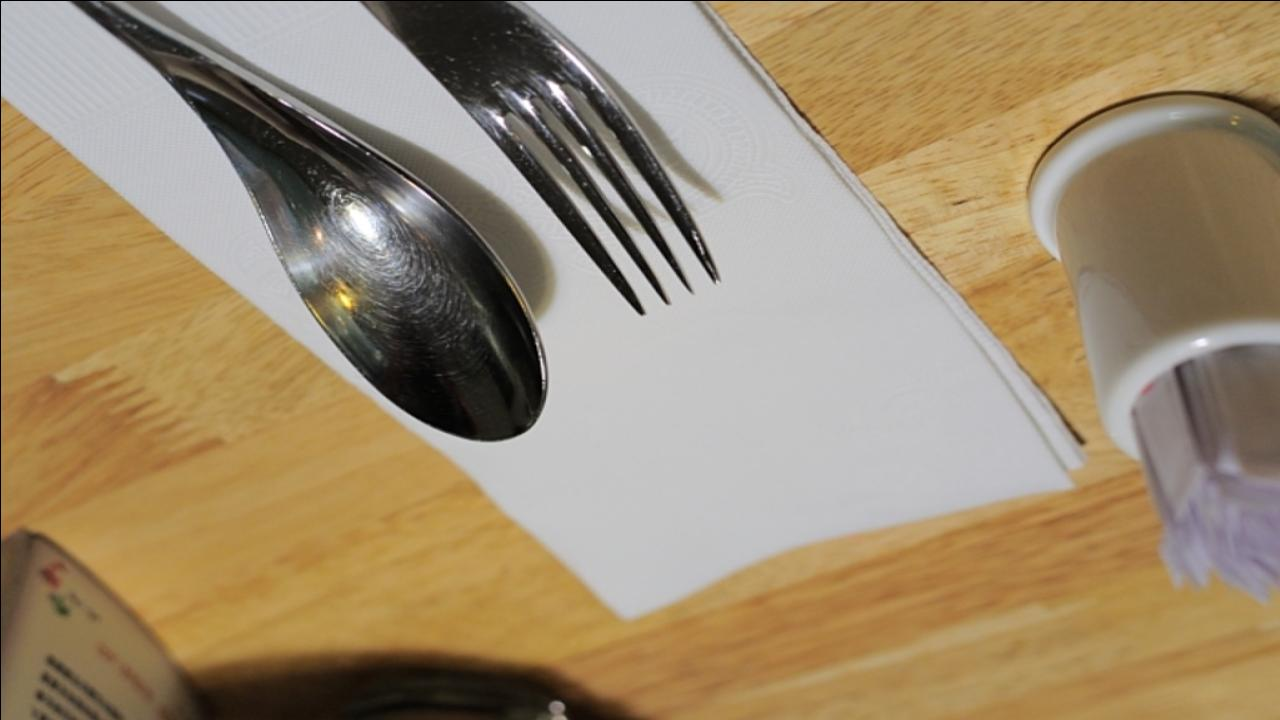fork: (362, 0, 718, 318)
